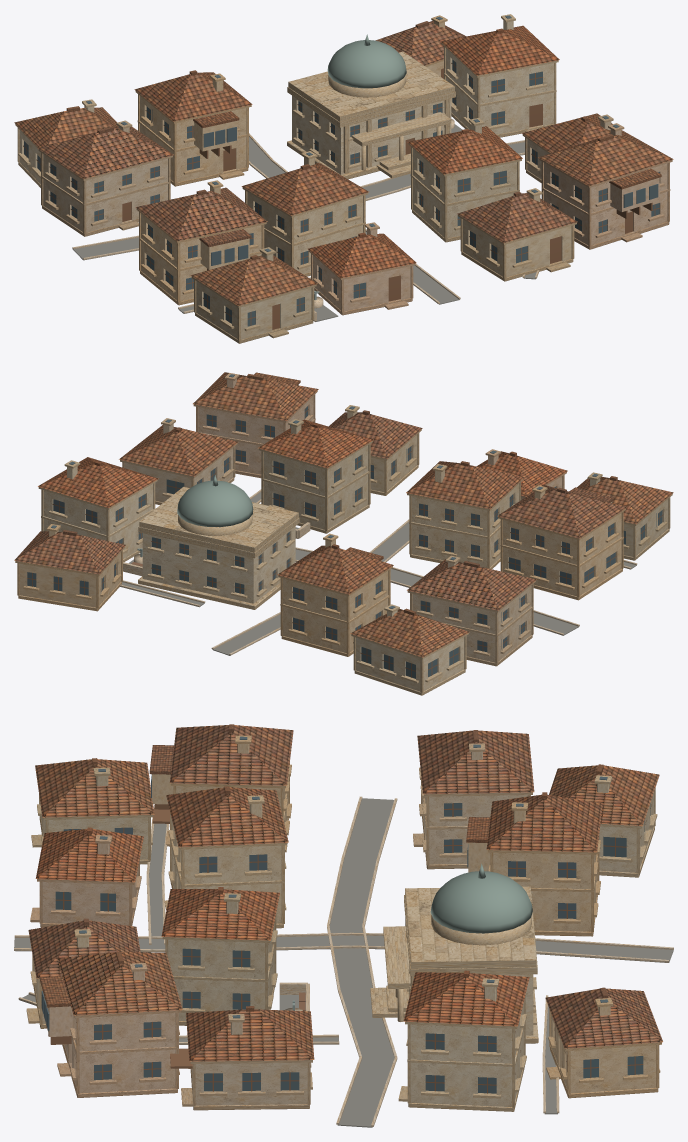
The model's file is city_orient_0.gltf.
The picture shows the model from 3 angles, top to bottom: view 1: azimuth 30°, elevation 25°; view 2: azimuth 150°, elevation 25°; view 3: azimuth 270°, elevation 25°; orthographic projection. The views are drawn at different scales.
Visible parts, largest first — view 1: city_orient_0; view 2: city_orient_0; view 3: city_orient_0.
Boxes of the visible parts, x1,y1,x2,y2 form: city_orient_0: [14, 14, 673, 343]; city_orient_0: [14, 372, 673, 695]; city_orient_0: [14, 724, 673, 1127].
Bounding box in the file's own units: 1 × 0.2039 × 0.8483.
5 materials, 1 textured.
